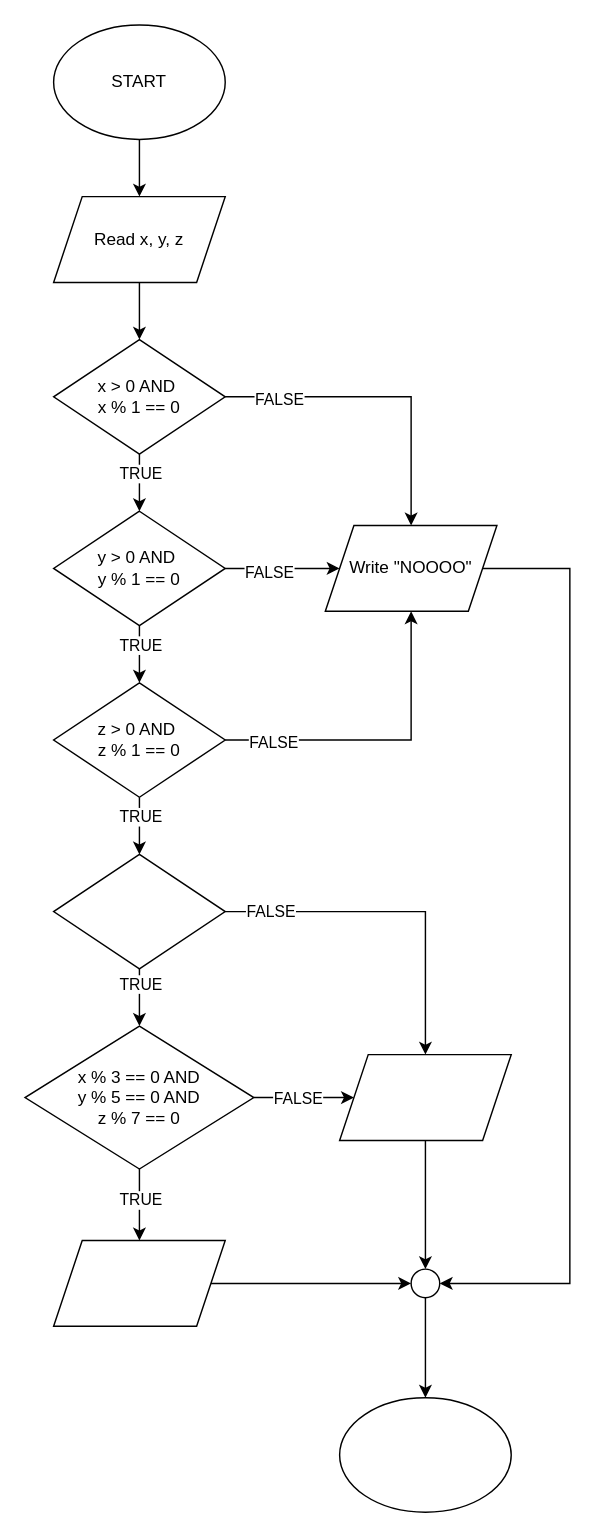
Image size: 606x1537. Some labels were removed from this diagram. Here are the shapes that lost their labels. From the top down, the box of each, then its label:
(52, 853, 225, 969): x + y + z % 2 == 0
(338, 1053, 511, 1140): Write "Regole non rispettate"
(52, 1239, 225, 1326): Write "Regole rispettate"
(338, 1396, 511, 1512): END
